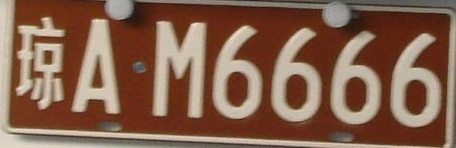A: (72, 19, 120, 114)
